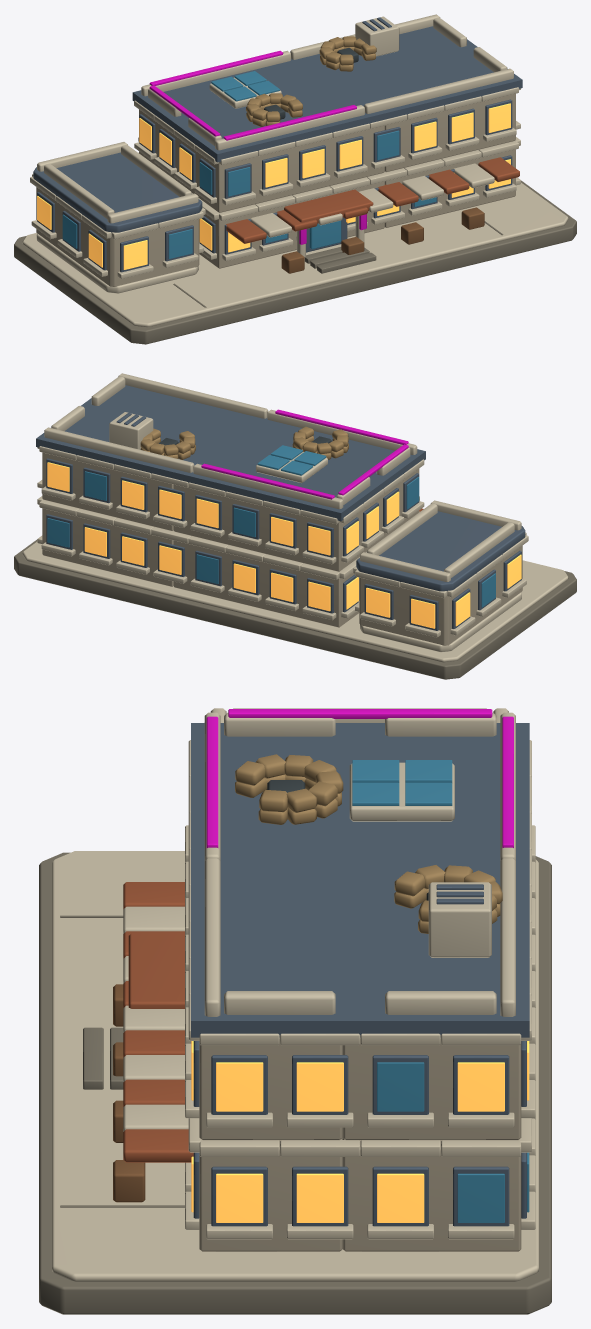
Rendered from civilian-market-garrison.glb.
The picture shows the model from 3 angles, top to bottom: view 1: azimuth 30°, elevation 25°; view 2: azimuth 150°, elevation 25°; view 3: azimuth 270°, elevation 25°; orthographic projection. The views are drawn at different scales.
Parts seen in each view (by area): view 1: CivilianShell; view 2: CivilianShell; view 3: CivilianShell.
Part boxes in pixels (bbox=[...]): CivilianShell: bbox=[14, 14, 576, 344]; CivilianShell: bbox=[14, 373, 576, 679]; CivilianShell: bbox=[39, 708, 551, 1314].
Size of the model in its own units: 3.97 by 1.38 by 1.98.
